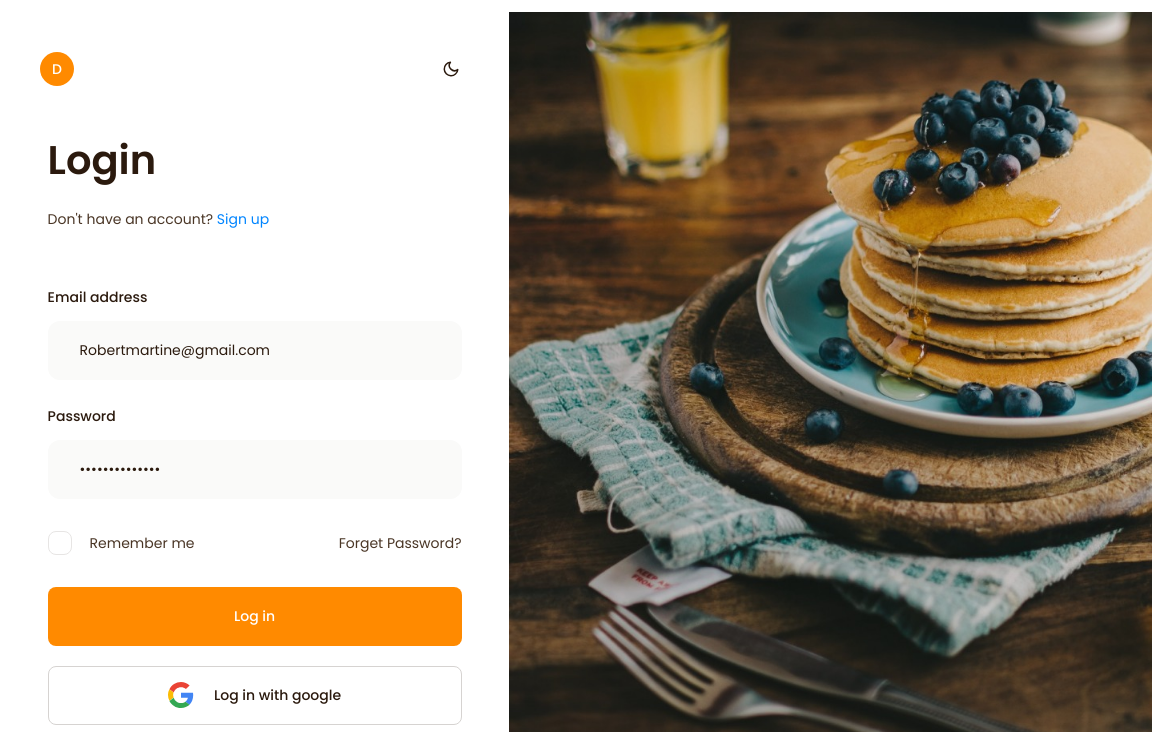
Scenario: Login (issue 1) › 'Forget Password?' opens a real page
Click the link "Forget Password?": (400, 543) left=339, top=533, right=462, bottom=553
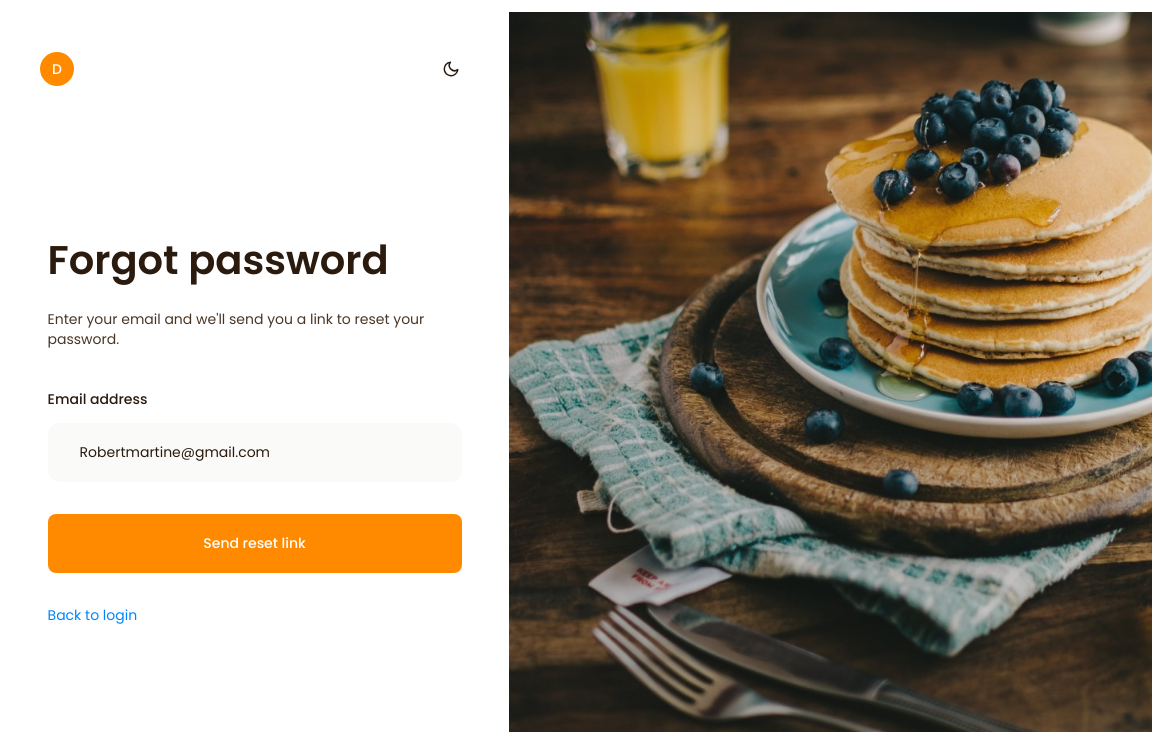
Check: the heading "Forgot password" is shown, box left=48, top=232, right=389, bottom=288
